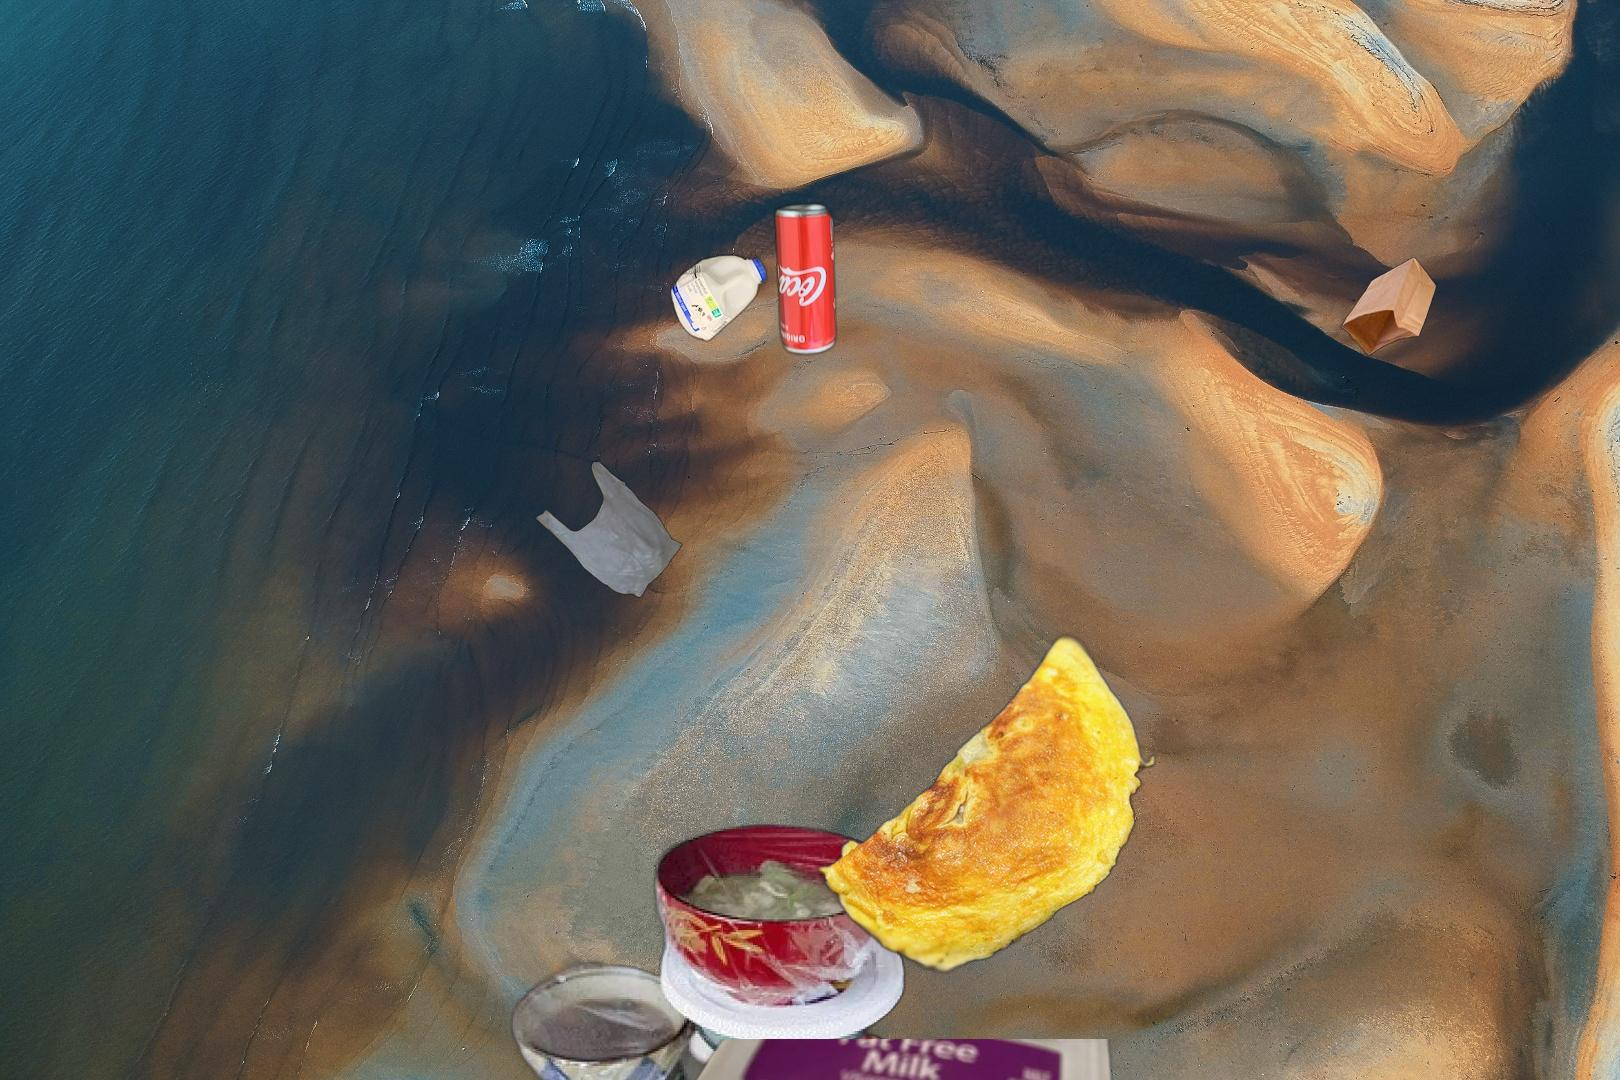biological: (718, 630, 1160, 978), (506, 821, 910, 1080)
metal-cans: (770, 196, 841, 360)
paper-bag: (1336, 254, 1439, 359)
plastic-bag: (532, 460, 685, 614)
plastic-bottles: (652, 1039, 1164, 1080), (667, 248, 771, 347)
